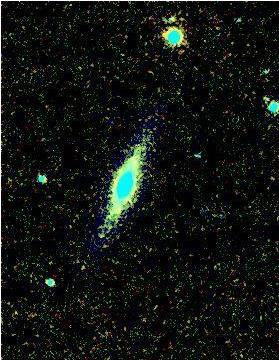star: (84, 219, 114, 249)
